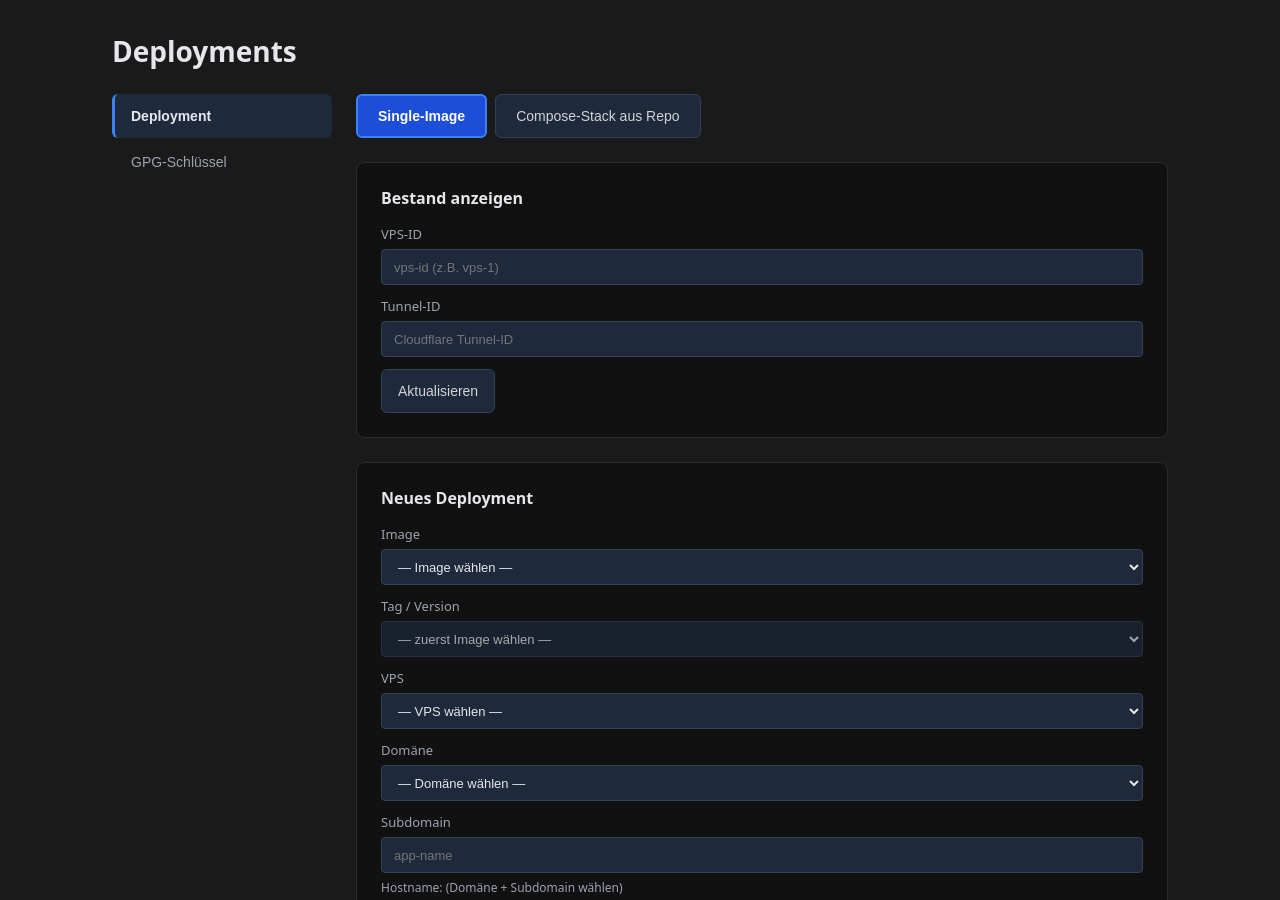
Test: DeploymentsView — AC11: Subdomain pre-fill + assembled hostname › assembled hostname shown: subdomain + domain
Select "brew-assistent" in the dropdown with id "deploy-image-select" at (762, 567), box [381,549,1143,585]
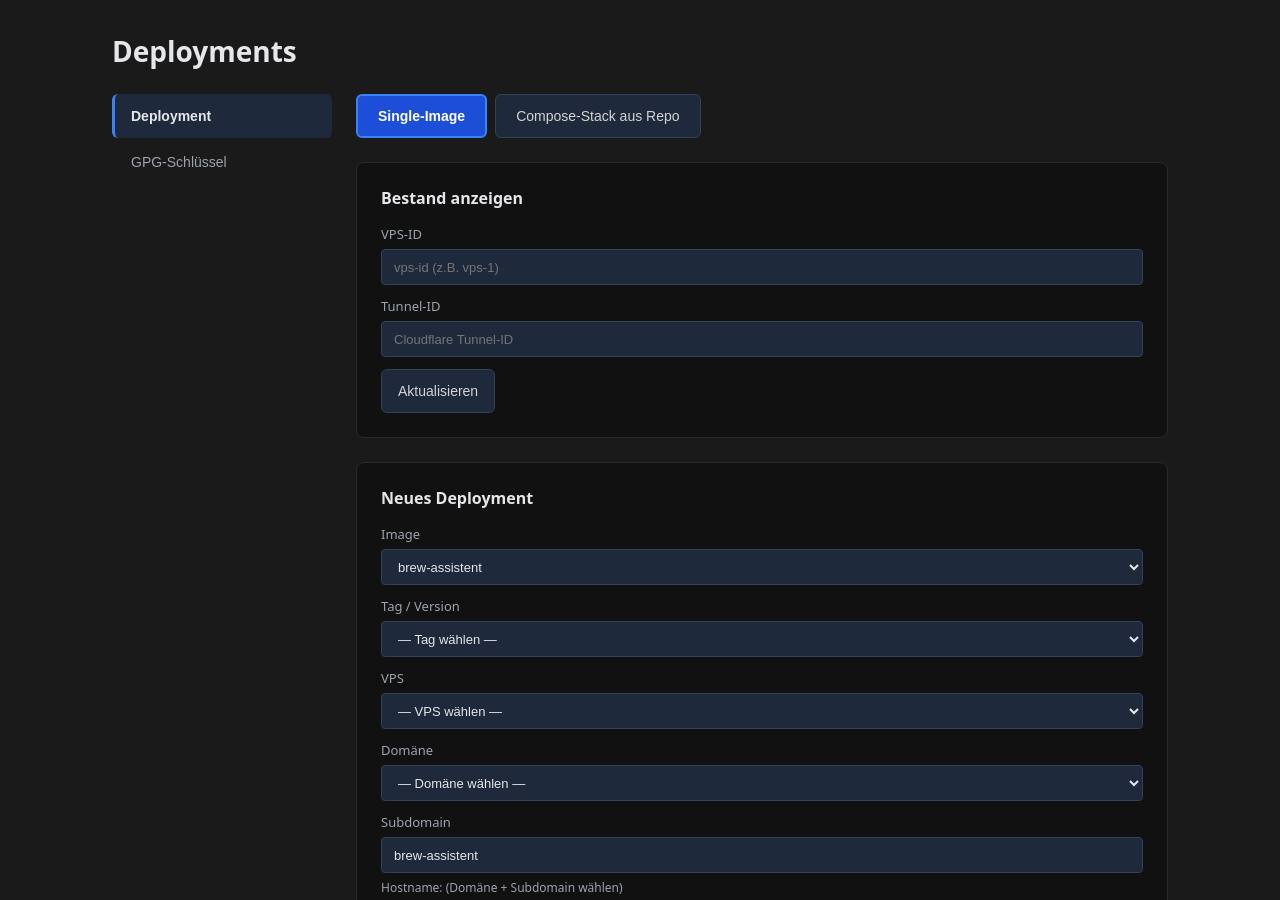
Select "alexstuder.cloud" in the dropdown with id "deploy-zone-select" at (762, 783), box [381,765,1143,801]
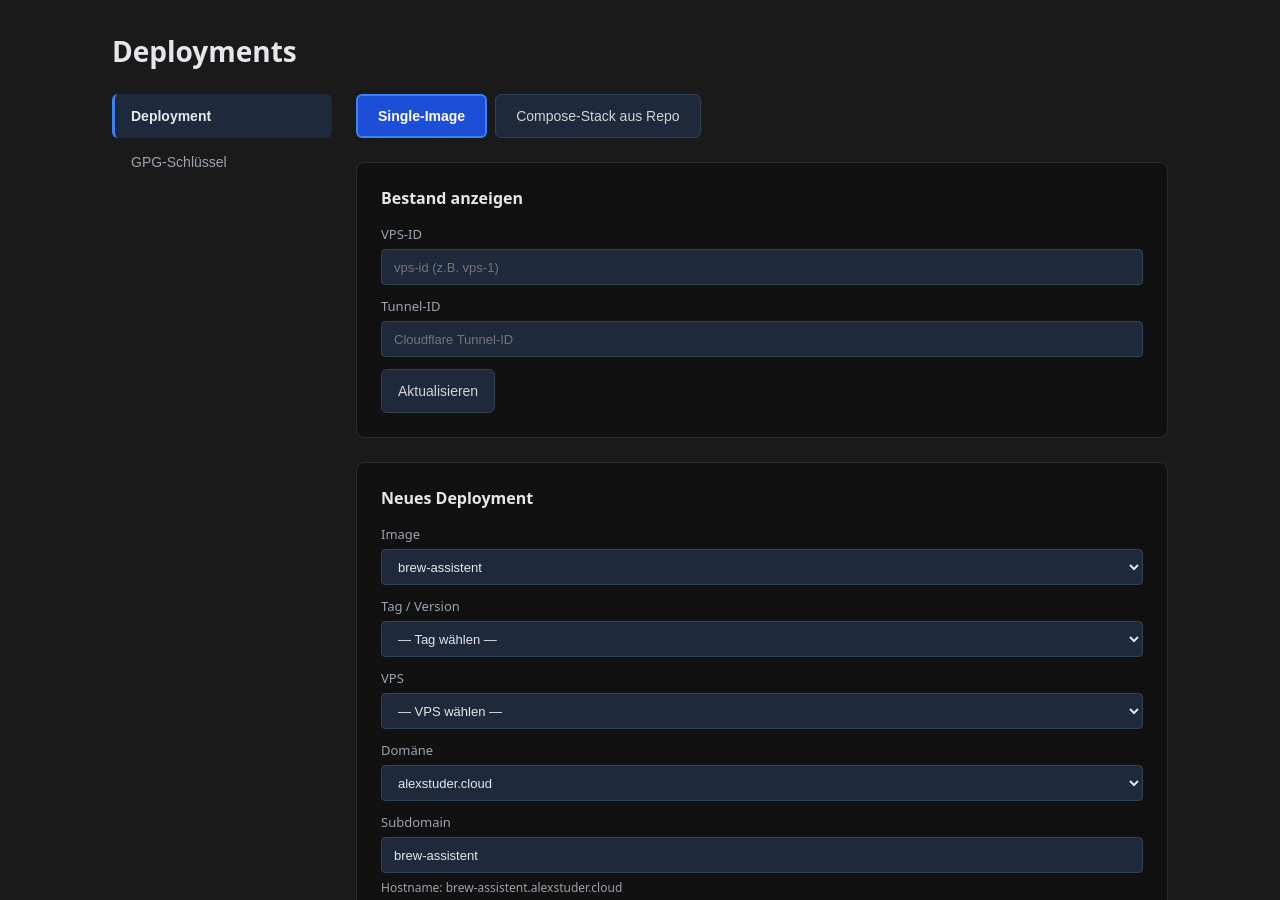
Expected: the text with id "deploy-hostname-preview" shows "brew-assistent.alexstuder.cloud", [381,879,622,896]
